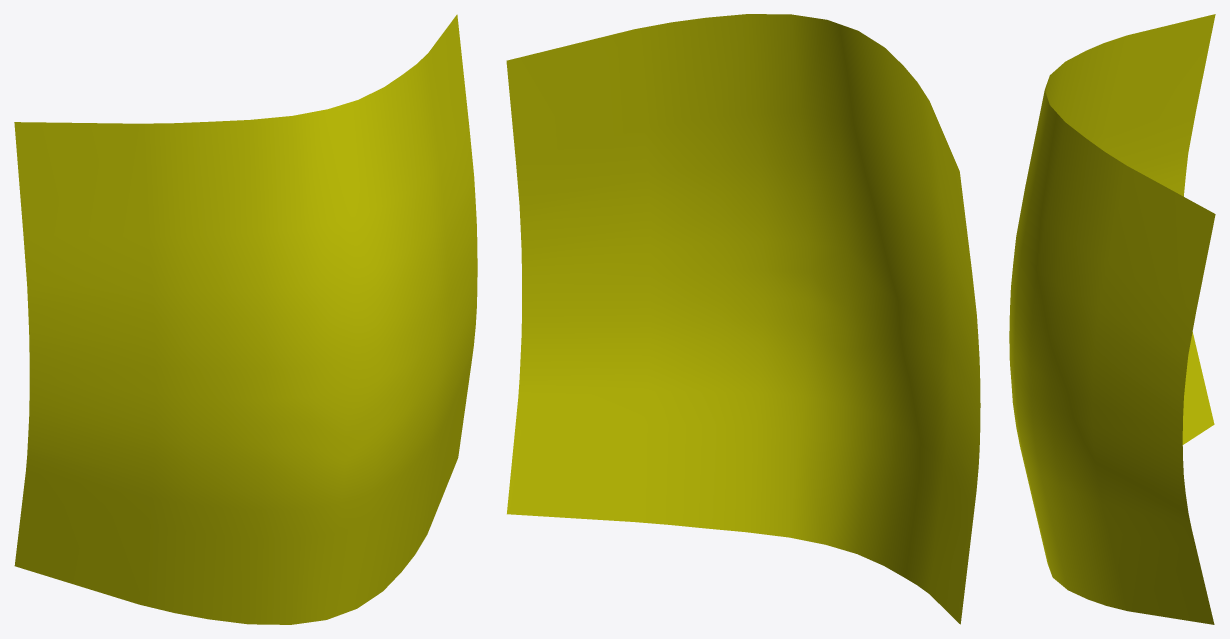
File: Mask_10.glb
3 views of the same model, side by side, from view 1: azimuth 30°, elevation 25°; view 2: azimuth 150°, elevation 25°; view 3: azimuth 270°, elevation 25° (orthographic). The views are drawn at different scales.
Bounding box in the file's own units: 91.85 × 100 × 39.57.
